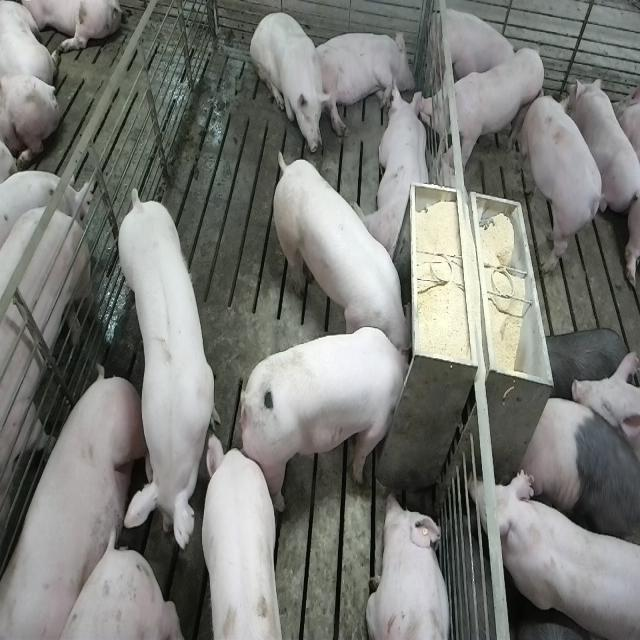Feeding: (244, 327, 419, 512), (268, 143, 411, 357)
Lateral_lying: (312, 28, 416, 138)
Sitting: (250, 10, 330, 157)
Standing: (0, 191, 96, 640), (114, 191, 220, 572), (476, 465, 638, 640), (518, 392, 638, 560), (202, 435, 287, 640), (418, 48, 545, 175), (522, 89, 606, 261), (538, 325, 632, 404)
Sternal_lying: (359, 83, 432, 264), (368, 490, 454, 640), (570, 74, 638, 221), (428, 5, 518, 92)
